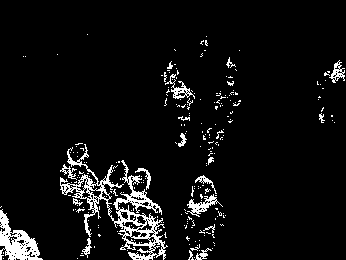person: (57, 140, 102, 258), (115, 167, 169, 260), (184, 174, 225, 260), (160, 62, 195, 147), (98, 158, 131, 233)
